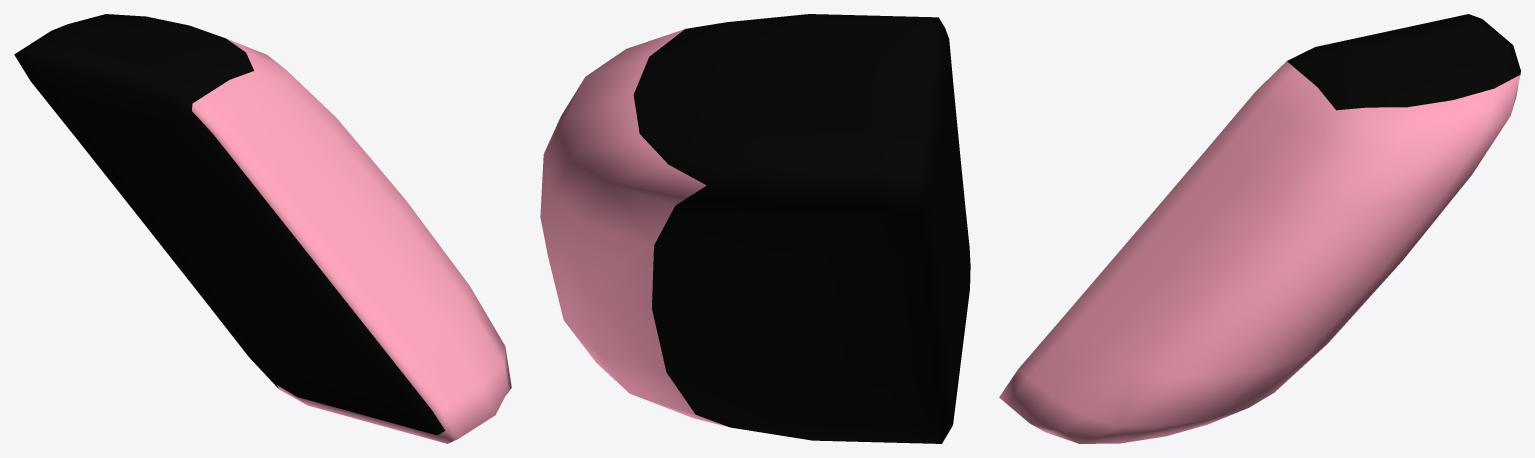
The picture shows the model from 3 angles, left to right: view 1: azimuth 30°, elevation 25°; view 2: azimuth 150°, elevation 25°; view 3: azimuth 270°, elevation 25°; orthographic projection. The views are drawn at different scales.
Parts seen in each view (by area): view 1: Box1217; view 2: Box1217; view 3: Box1217.
Boxes of the visible parts, box(x1,y1,x2,y2) form: Box1217: box(14, 14, 511, 443); Box1217: box(540, 14, 970, 443); Box1217: box(999, 14, 1520, 443).
Size of the model in its own units: 0.0423 by 0.0357 by 0.0585.
